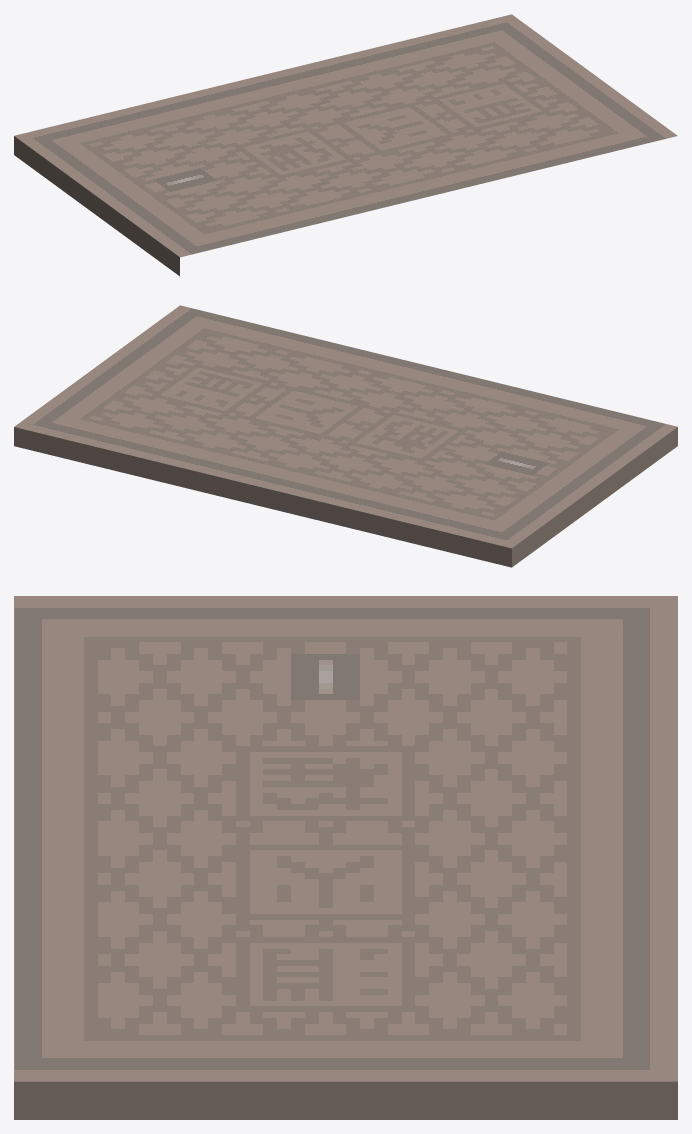
The model's file is kd_stage_135d18_3_11_bounded.glb.
3 views of the same model, one above another, from view 1: azimuth 30°, elevation 25°; view 2: azimuth 150°, elevation 25°; view 3: azimuth 270°, elevation 25° (orthographic). The views are drawn at different scales.
Visible parts, largest first — view 1: kd_stage_135d18_3_11_bounded; view 2: kd_stage_135d18_3_11_bounded; view 3: kd_stage_135d18_3_11_bounded.
Part boxes in pixels (left/top/right/bottom): kd_stage_135d18_3_11_bounded: left=14, top=14, right=677, bottom=276; kd_stage_135d18_3_11_bounded: left=14, top=305, right=677, bottom=567; kd_stage_135d18_3_11_bounded: left=14, top=596, right=677, bottom=1119.
Size of the model in its own units: 0.8132 by 0.03 by 0.4701.
1 material, 1 textured.
